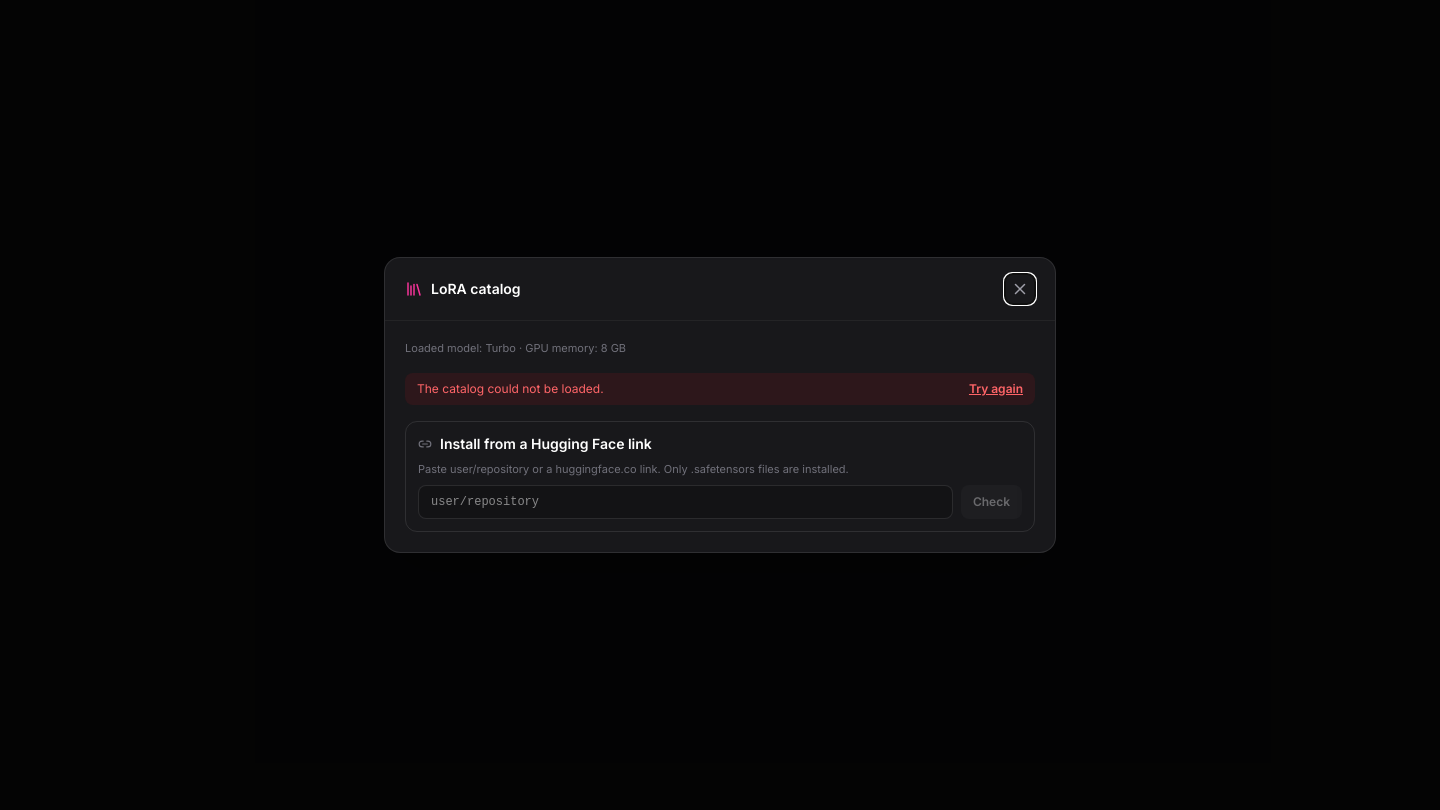
Scenario: LoraCatalogModal › says so when the catalog cannot be loaded, and loads it when the user tries again
Expected: the message "The catalog could not be loaded. Try again" is shown, [405,372,1035,404]
Click the button "Try again": (996, 388) [969,380,1023,396]
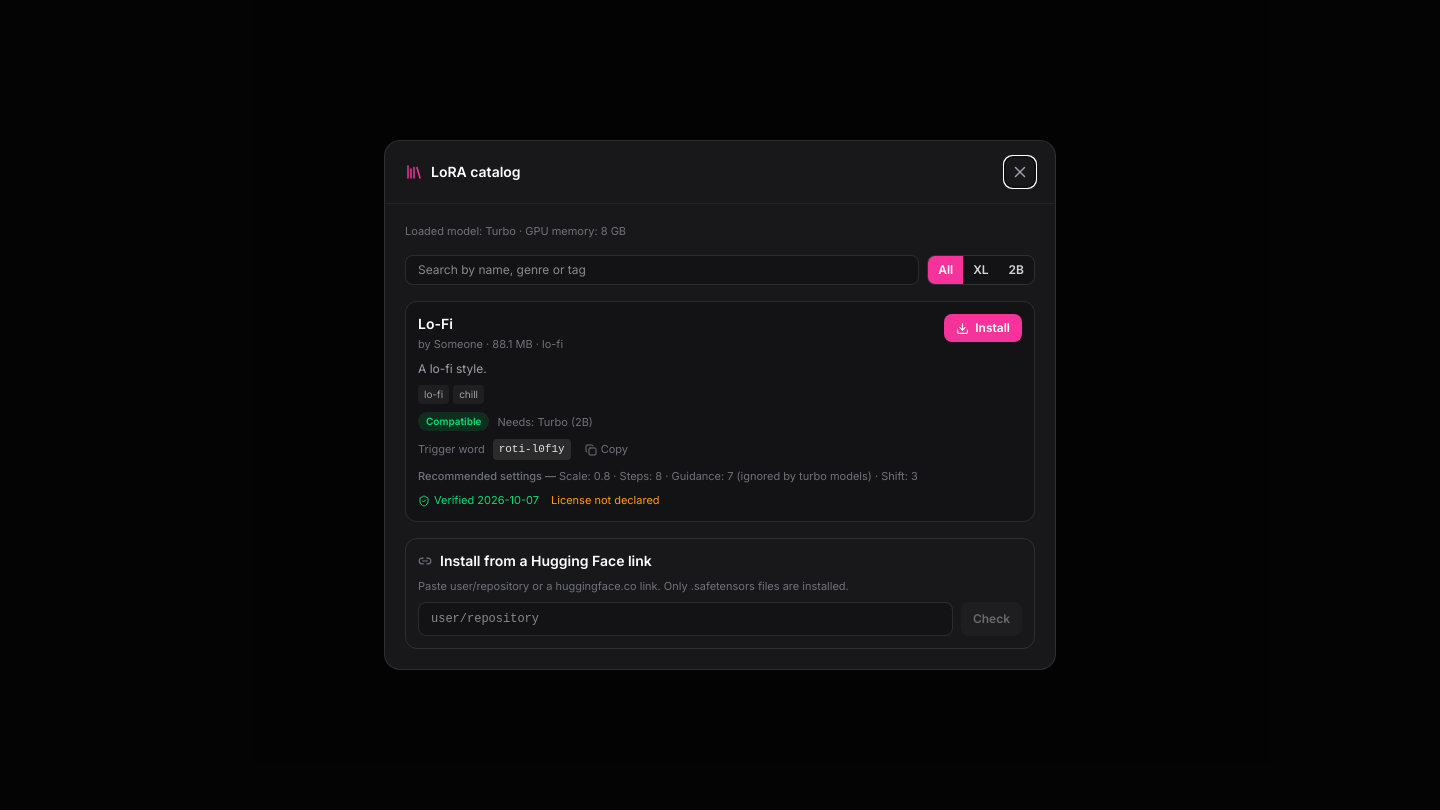
Now the message "The catalog could not be loaded. Try again" is gone
